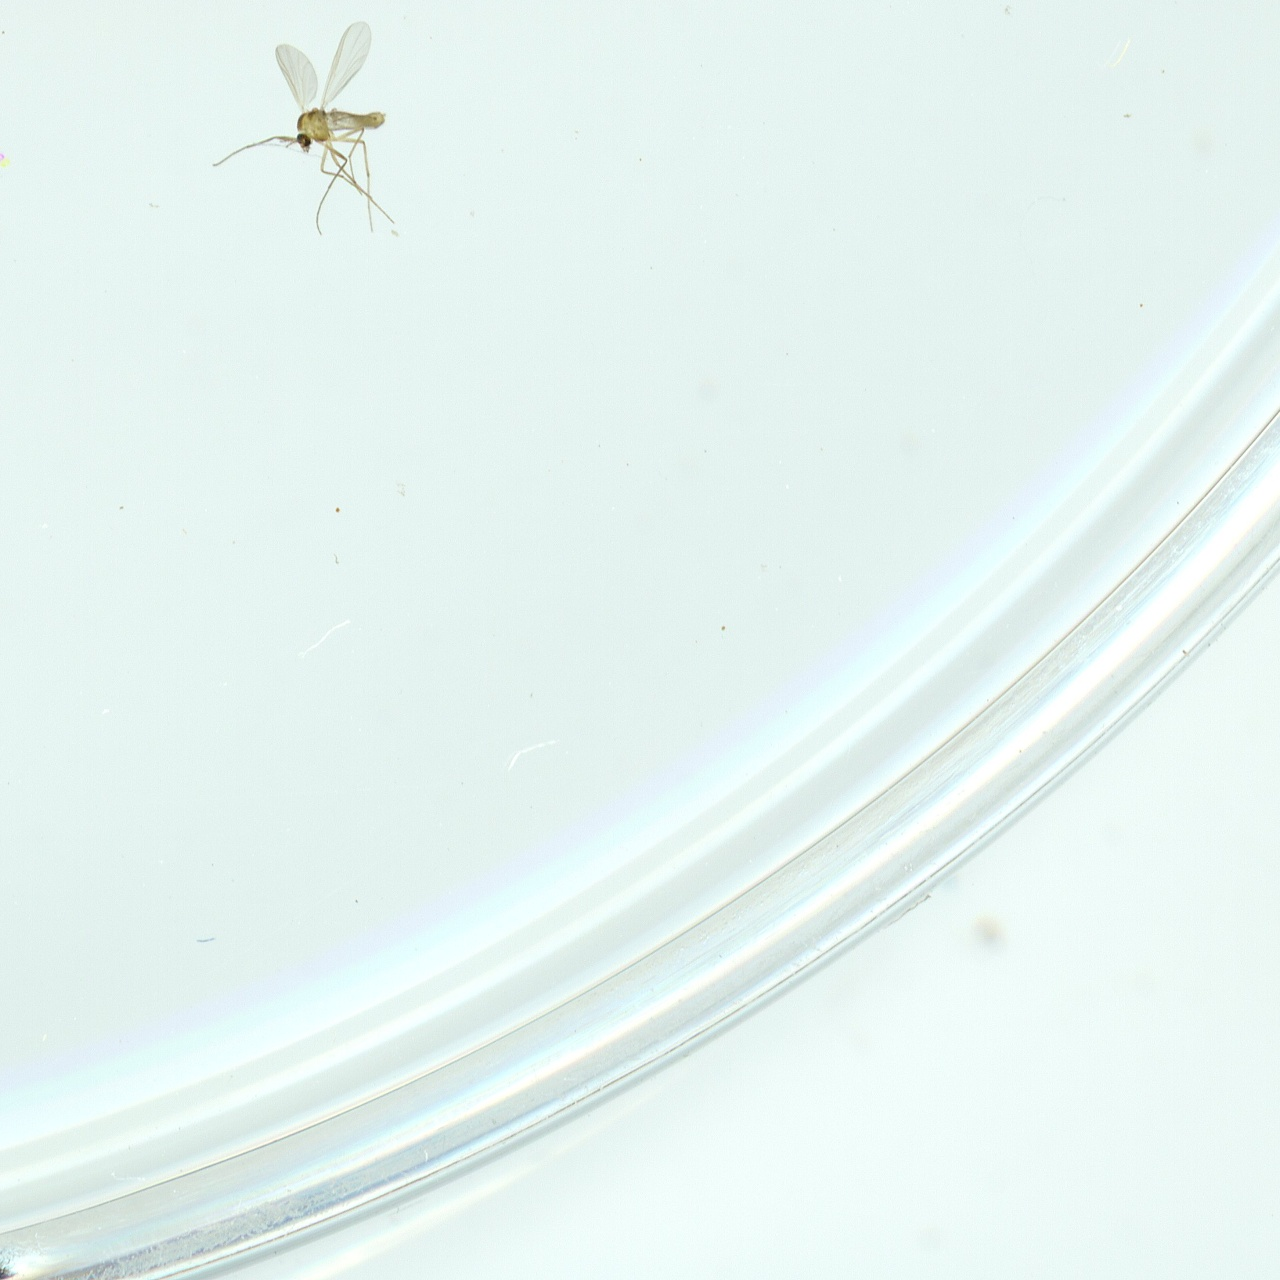arthropod: (212, 23, 395, 235)
